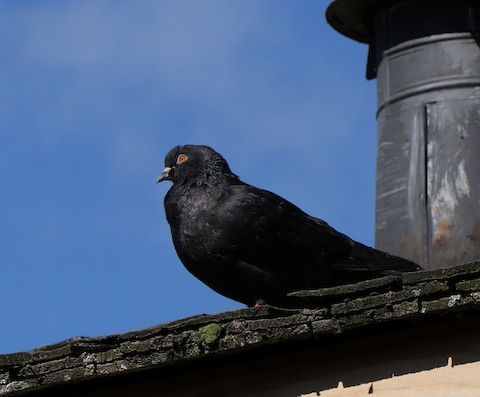pigeon: (153, 138, 435, 321)
